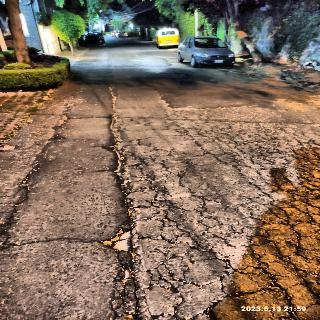alligator-crack: (144, 163, 320, 320), (185, 216, 308, 307), (203, 118, 320, 181), (107, 248, 158, 320)
crack: (102, 94, 138, 225), (5, 231, 114, 253)
